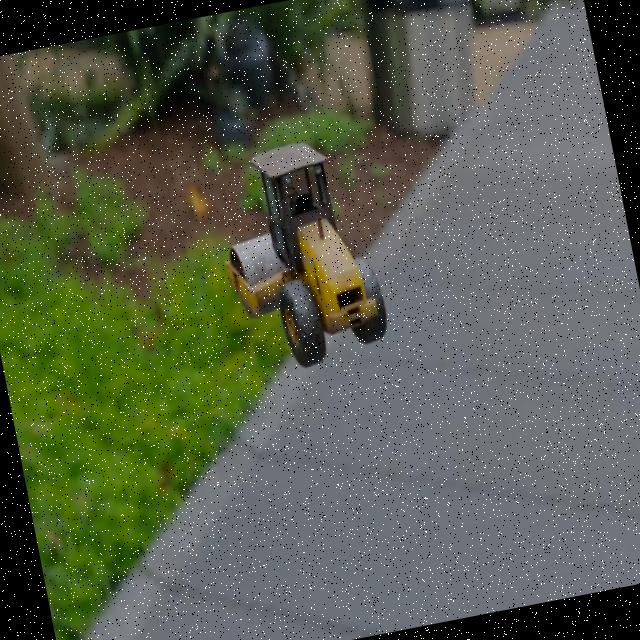Roller: (204, 132, 393, 379)
